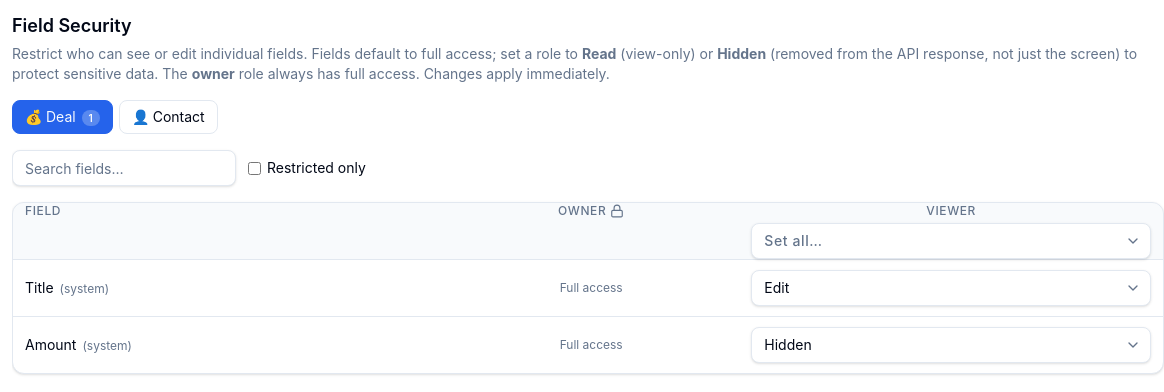
Test: FieldSecurityManager — field × role level grid › "Restricted only" shows only fields with a non-default cell
The width and height of the screenshot is (1164, 392).
Expected: the text "Title" is shown, x1=25 y1=279 x2=54 y2=296
What coordinates should you click on to do the following:
click the checkbox labelled "Restricted only"
I would click on:
 (254, 168)
Its box is x1=248 y1=162 x2=261 y2=174.
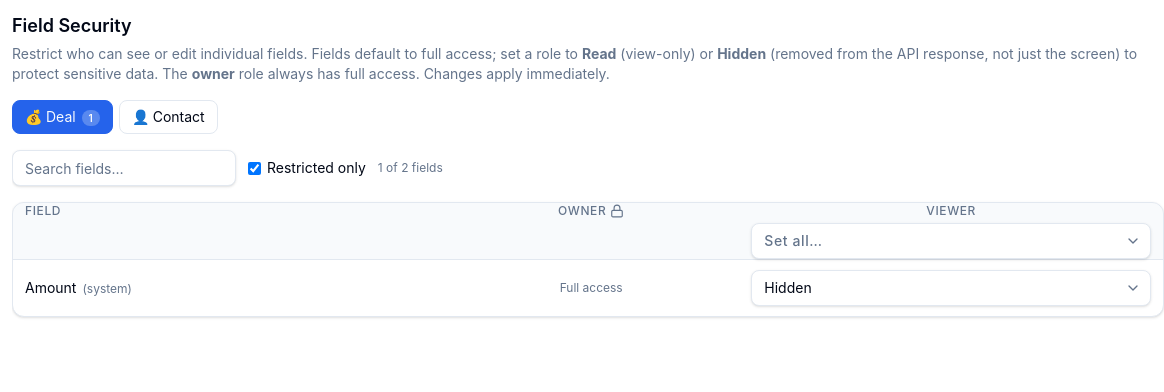
Expected: the text "Amount" is shown, x1=25 y1=279 x2=76 y2=296
Now the text "Title" is gone
Now the text "1 of 2 fields" is shown, box x1=378 y1=160 x2=443 y2=176
